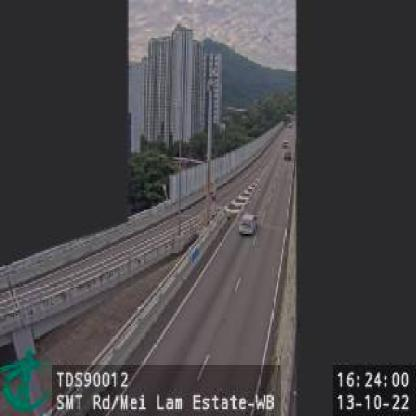Car: (239, 212, 258, 233)
